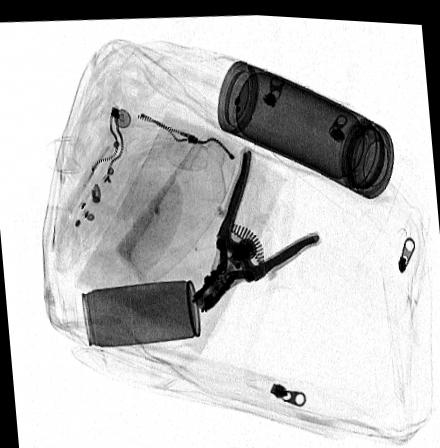Pliers: (188, 147, 320, 311)
